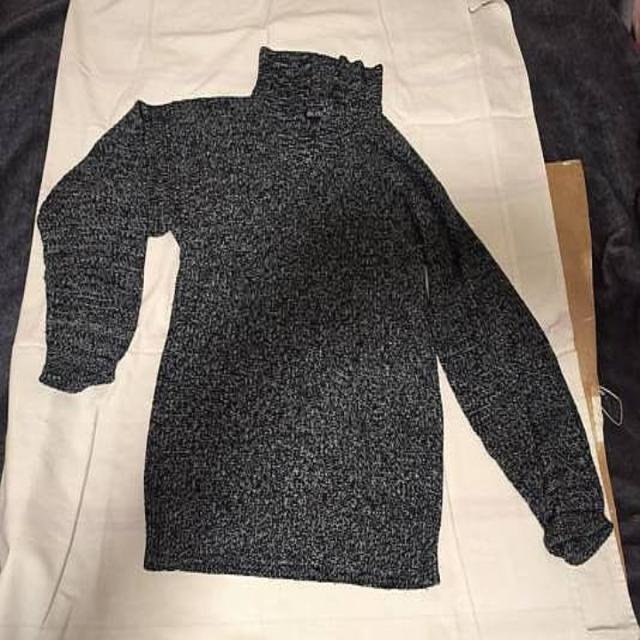T_SHIRT: (32, 34, 636, 598)
